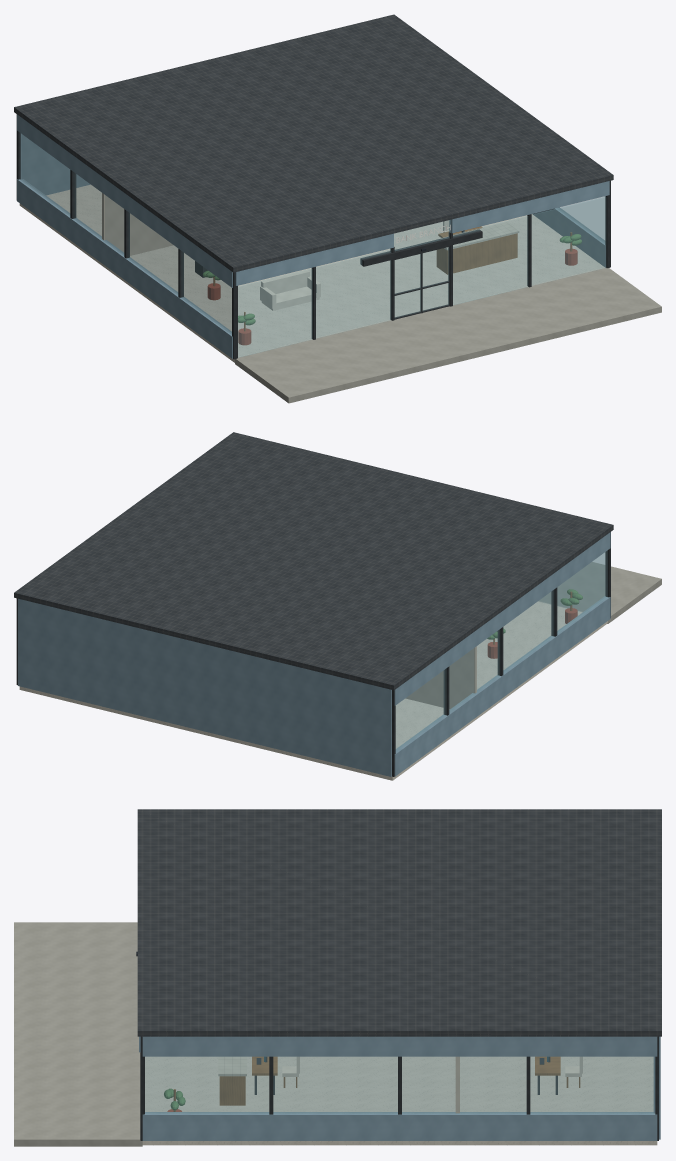
Rendered from 07_Bank_Branch_LOD1.glb.
3 renders of one model, top to bottom at view 1: azimuth 30°, elevation 25°; view 2: azimuth 150°, elevation 25°; view 3: azimuth 270°, elevation 25°, orthographic. The views are drawn at different scales.
Parts seen in each view (by area): view 1: Roof, Floor, Approach, Front glazing, Front glazing.001, Side glazing, Side base wall, Side upper wall, Front band.001, Front band, Rear wall, Internal partition (+10 smaller); view 2: Roof, Rear wall, Side glazing, Floor, Side base wall, Side upper wall, Approach, Internal partition, Front glazing; view 3: Roof, Side glazing.001, Approach, Floor, Side base wall.001, Side upper wall.001, Service counter, Stone countertop.
Boxes of the visible parts, box(x1,y1,x2,y2) form: Roof: box(14, 14, 613, 272); Floor: box(19, 184, 605, 362); Approach: box(235, 268, 661, 403); Front glazing: box(238, 249, 391, 357); Front glazing.001: box(453, 197, 606, 304); Side glazing: box(20, 133, 231, 333); Side base wall: box(17, 179, 232, 358); Side upper wall: box(17, 114, 232, 287); Front band.001: box(449, 181, 609, 233); Front band: box(235, 233, 393, 285); Rear wall: box(20, 133, 90, 195); Internal partition: box(102, 193, 172, 255); Roof: box(14, 432, 613, 690); Rear wall: box(18, 598, 391, 776); Side glazing: box(396, 551, 607, 751); Floor: box(19, 601, 607, 780); Side base wall: box(394, 596, 610, 776); Side upper wall: box(394, 532, 610, 705); Approach: box(539, 562, 661, 623); Internal partition: box(405, 646, 476, 708); Front glazing: box(539, 553, 604, 611); Roof: box(137, 809, 661, 1036); Side glazing.001: box(145, 1057, 654, 1113); Approach: box(14, 922, 142, 1146); Floor: box(142, 1056, 657, 1145); Side base wall.001: box(142, 1112, 657, 1140); Side upper wall.001: box(142, 1036, 657, 1056); Service counter: box(219, 1076, 245, 1105); Stone countertop: box(218, 1056, 246, 1076).
Bounding box in the file's own units: 16.3 × 4.04 × 20.15.
Materials: 16 (10 with a texture image).
